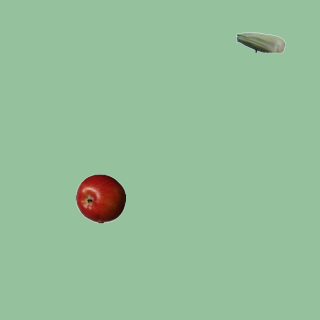Apple Braeburn: (75, 173, 125, 223)
Corn Husk: (235, 17, 285, 67)
